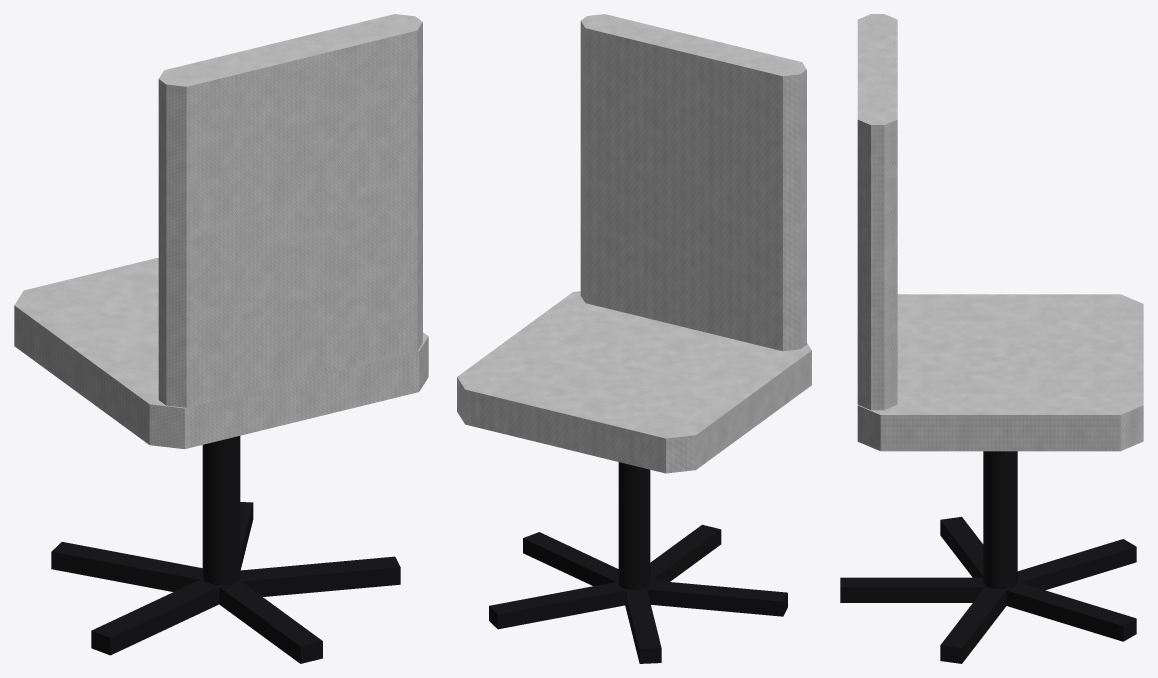
The model's file is office_chair.obj.
3 views of the same model, side by side, from view 1: azimuth 30°, elevation 25°; view 2: azimuth 150°, elevation 25°; view 3: azimuth 270°, elevation 25° (orthographic). The views are drawn at different scales.
Parts seen in each view (by area): view 1: office_chair; view 2: office_chair; view 3: office_chair.
Boxes of the visible parts, x1,y1,x2,y2 form: office_chair: [14, 14, 428, 663]; office_chair: [457, 14, 811, 663]; office_chair: [840, 14, 1143, 663].
Size of the model in its own units: 0.545 by 1.02 by 0.53.
2 materials, 1 textured.
